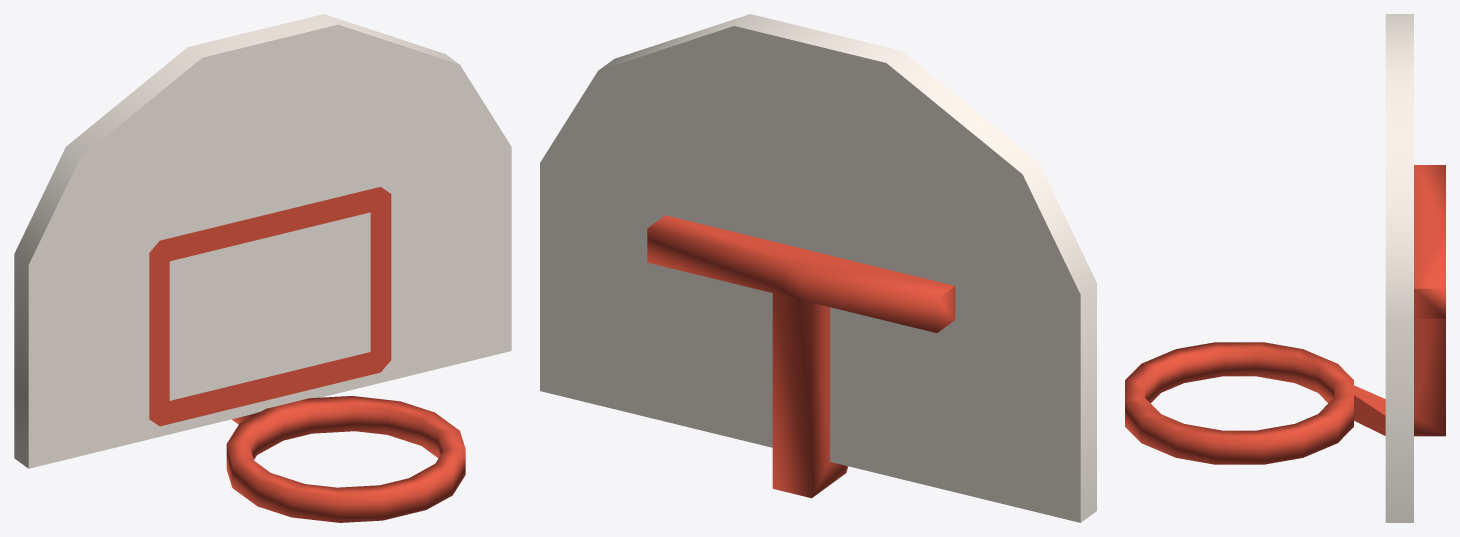
Rendered from SM_Prop_Hoop_01_Smooth.obj.
3 views of the same model, side by side, from view 1: azimuth 30°, elevation 25°; view 2: azimuth 150°, elevation 25°; view 3: azimuth 270°, elevation 25° (orthographic). The views are drawn at different scales.
Parts seen in each view (by area): view 1: SM_Prop_Hoop_01_Smooth_Mat_SwatchOverlay_PolygonTown_01_Inst; view 2: SM_Prop_Hoop_01_Smooth_Mat_SwatchOverlay_PolygonTown_01_Inst; view 3: SM_Prop_Hoop_01_Smooth_Mat_SwatchOverlay_PolygonTown_01_Inst.
Boxes of the visible parts, x1,y1,x2,y2 form: SM_Prop_Hoop_01_Smooth_Mat_SwatchOverlay_PolygonTown_01_Inst: [14, 14, 511, 522]; SM_Prop_Hoop_01_Smooth_Mat_SwatchOverlay_PolygonTown_01_Inst: [540, 14, 1096, 522]; SM_Prop_Hoop_01_Smooth_Mat_SwatchOverlay_PolygonTown_01_Inst: [1125, 14, 1445, 522].
Size of the model in its own units: 1.24 by 0.9547 by 0.7281.
1 material, 1 textured.
